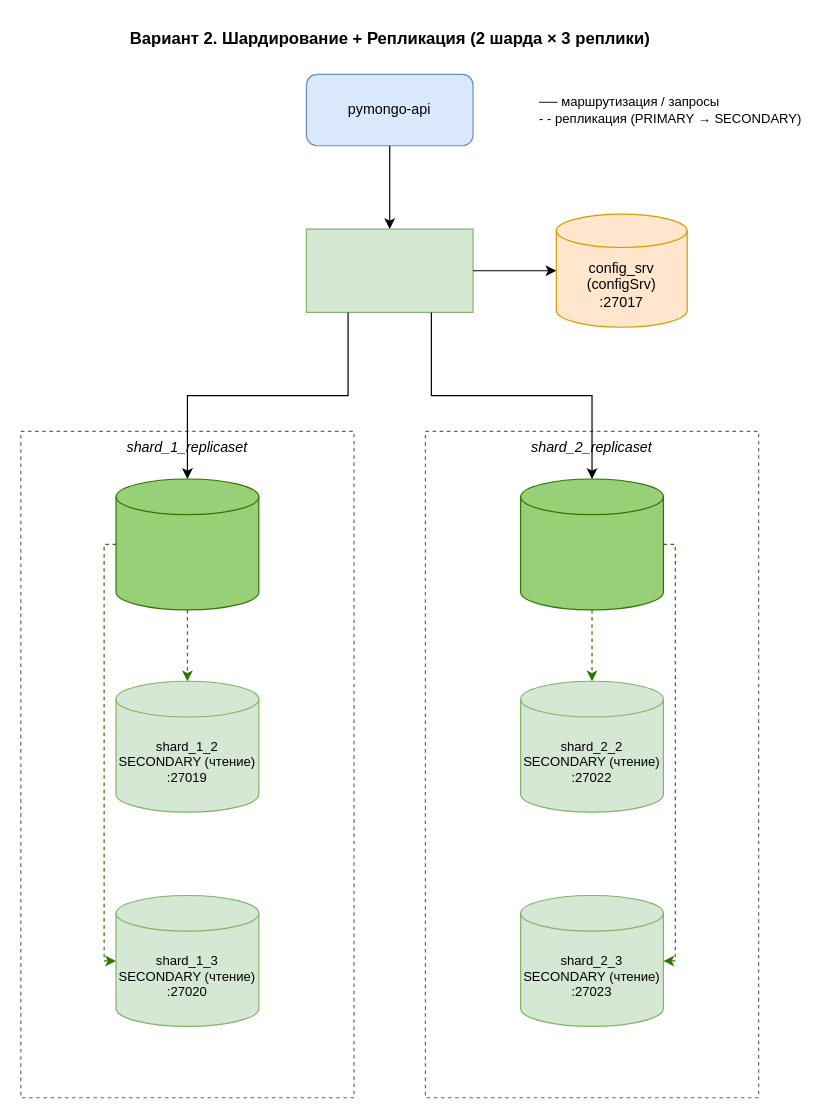
Some shapes in this 839 by 1119 pixel diagram are drawn without their labels. The centre of each missing label's shape, as x and y in pixels:
mongos_router (mongos) :27024: the point at 389,270
shard_1_1 PRIMARY (запись) :27018: the point at 187,544
shard_2_1 PRIMARY (запись) :27021: the point at 591,544
